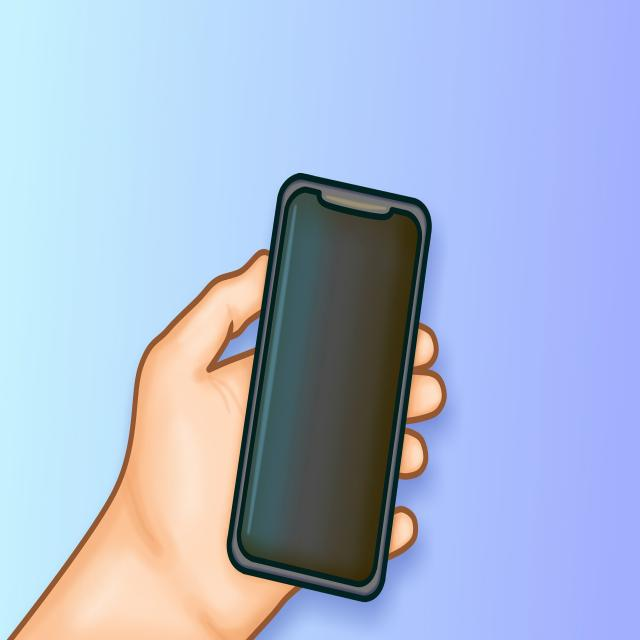Mobile: (235, 159, 434, 614)
